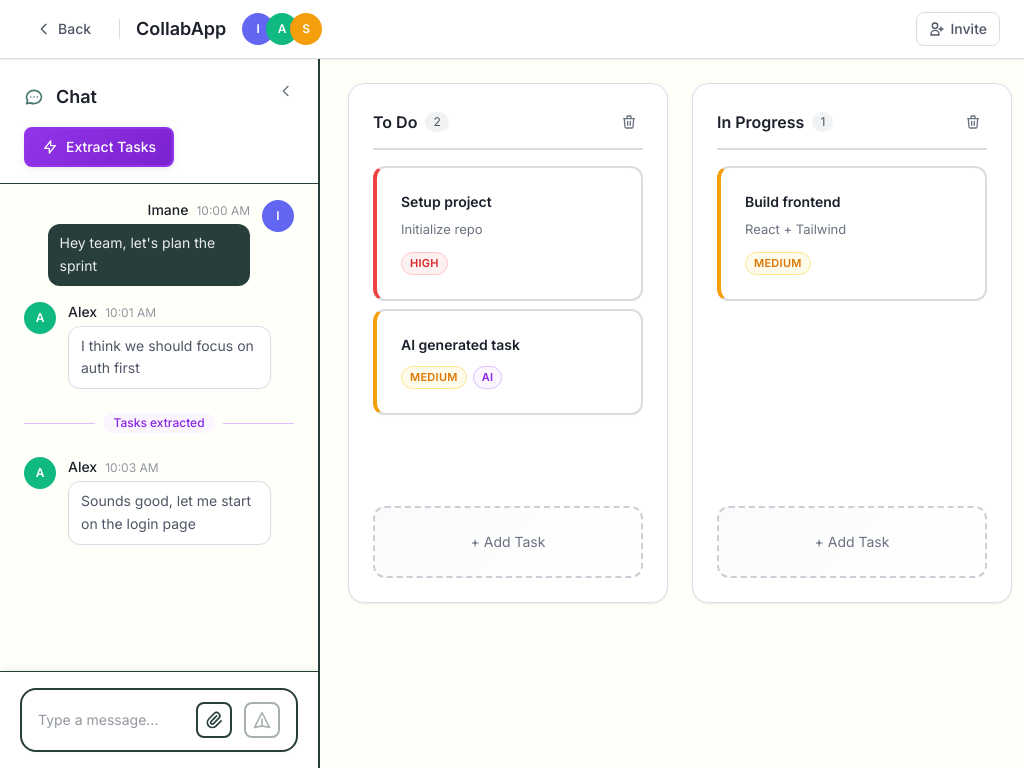
Test: ProjectPage › opens edit project modal on name click
Step 1. Click the button "CollabApp" → (181, 29), box [136, 15, 226, 43]
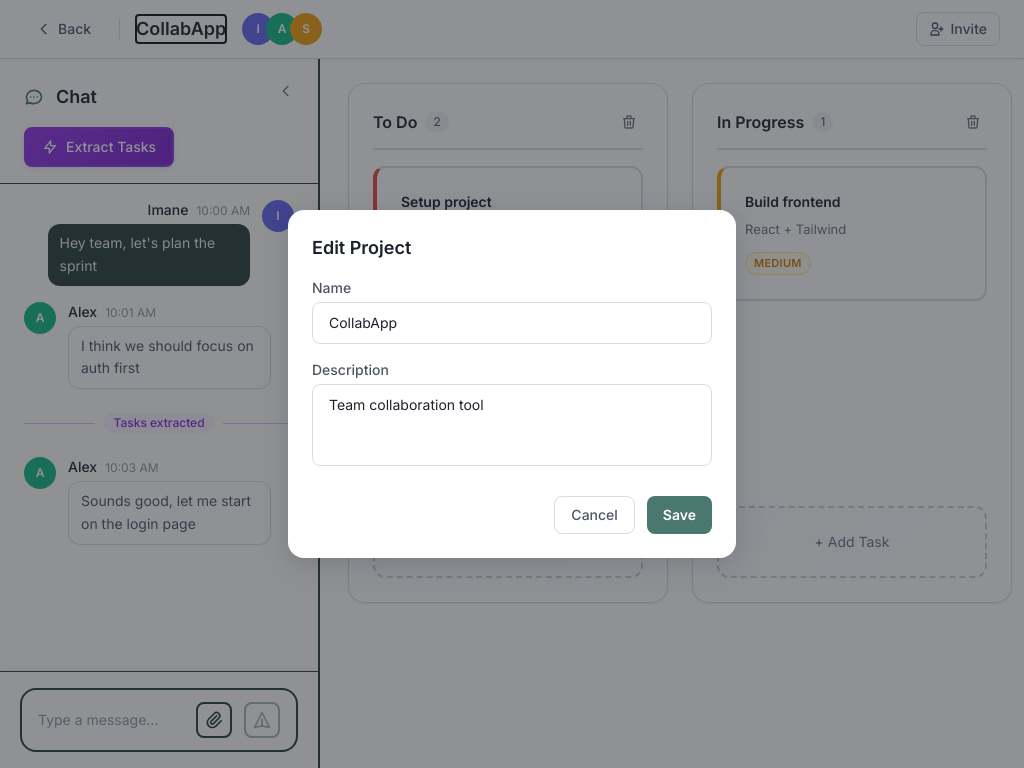
Now the heading "Edit Project" is shown, box [312, 237, 411, 258]
